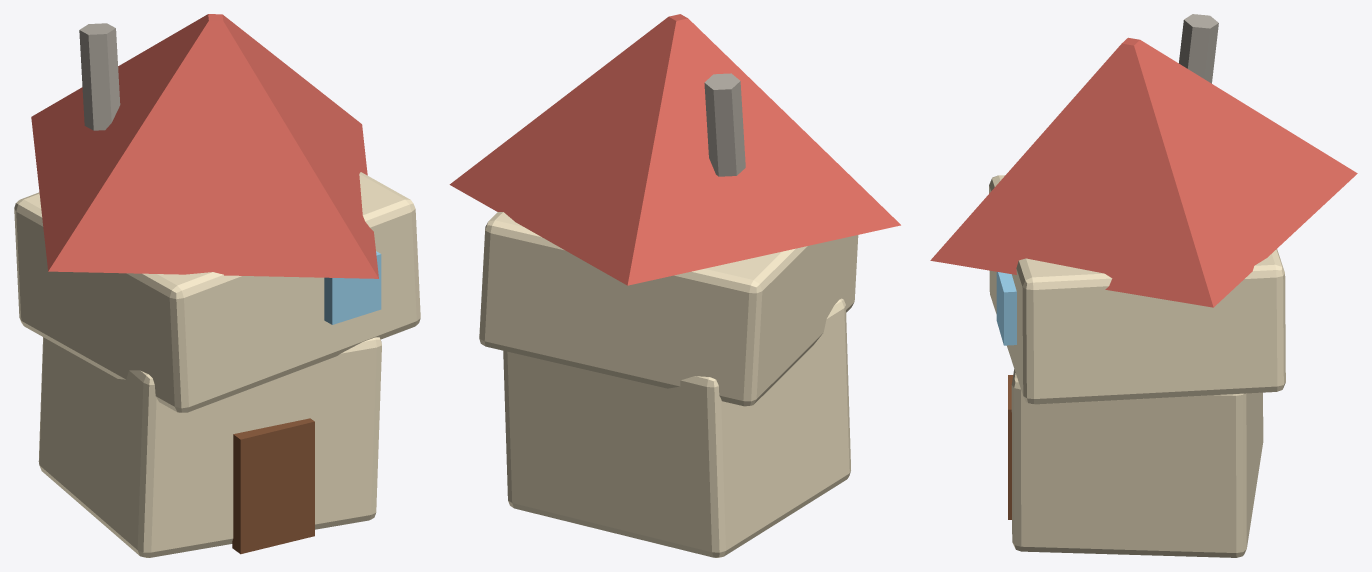
File: house_a.glb
3 renders of one model, left to right at view 1: azimuth 30°, elevation 25°; view 2: azimuth 150°, elevation 25°; view 3: azimuth 270°, elevation 25°, orthographic. The views are drawn at different scales.
Parts seen in each view (by area): view 1: HouseA; view 2: HouseA; view 3: HouseA.
Part boxes in pixels (x1,y1,x2,y2): HouseA: (14,14,420,557); HouseA: (449,14,900,557); HouseA: (930,14,1357,557).
Size of the model in its own units: 2.19 by 2.62 by 2.18.
